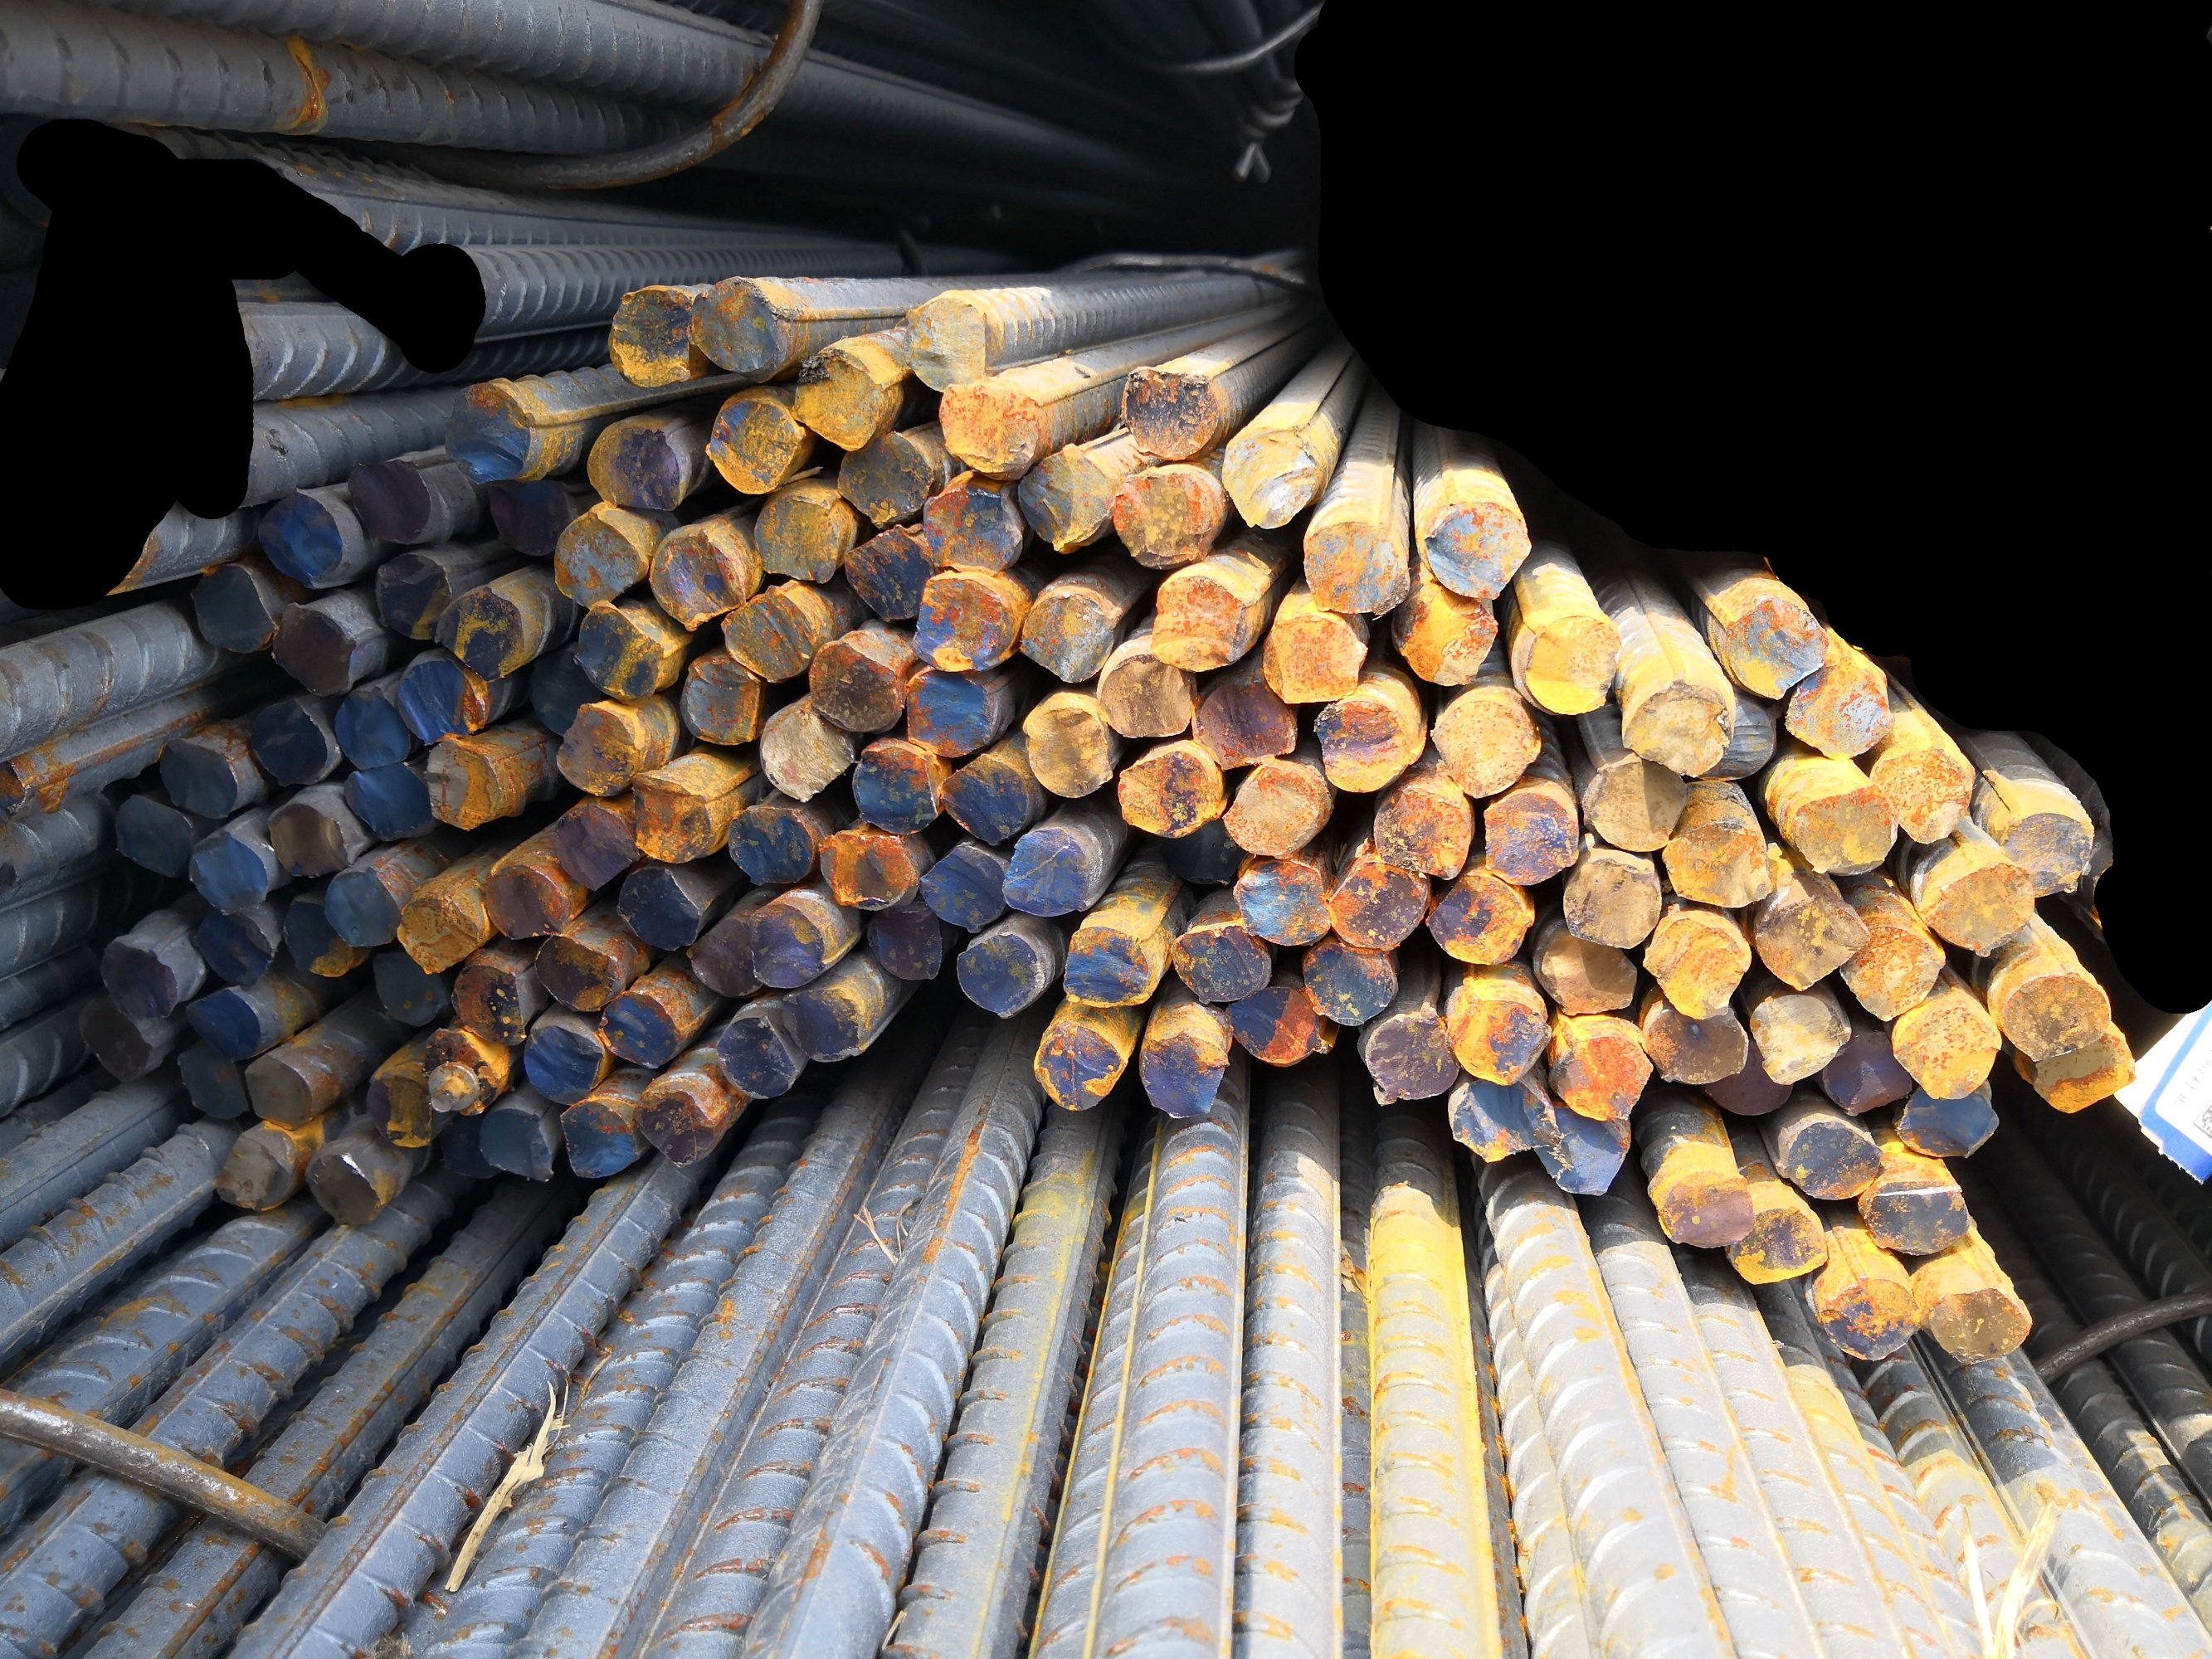rebar: (1783, 636, 1898, 767), (1428, 683, 1548, 803), (1720, 579, 1835, 702), (1142, 563, 1262, 674), (1513, 599, 1623, 720), (1616, 669, 1736, 779), (1440, 1063, 1564, 1169), (1311, 685, 1426, 798), (933, 368, 1044, 484), (1830, 915, 1947, 1026), (1780, 772, 1902, 878), (1257, 592, 1368, 708), (1220, 415, 1327, 535), (1353, 993, 1459, 1114), (1422, 490, 1536, 601), (1644, 906, 1755, 1019), (580, 413, 697, 519), (1211, 972, 1335, 1072), (1300, 511, 1414, 619), (1574, 751, 1689, 857), (753, 688, 854, 809), (1110, 462, 1217, 575), (1888, 995, 2003, 1100), (1180, 671, 1299, 772), (1752, 890, 1872, 990), (1869, 735, 1977, 845), (835, 518, 941, 629), (436, 376, 540, 490), (1422, 864, 1536, 969), (1218, 756, 1335, 857), (1659, 812, 1776, 913), (702, 389, 809, 498), (1391, 584, 1503, 688), (1562, 843, 1666, 955), (1923, 857, 2038, 958), (1546, 1021, 1658, 1124), (913, 477, 1028, 577), (1327, 852, 1433, 958), (1370, 775, 1476, 882), (1020, 575, 1124, 683), (1447, 981, 1551, 1089), (647, 519, 748, 631), (1020, 690, 1121, 802), (831, 432, 943, 533), (1018, 439, 1117, 552), (751, 484, 859, 587), (1815, 1262, 1923, 1364), (1747, 986, 1855, 1089), (1996, 795, 2099, 903), (546, 502, 647, 612), (892, 291, 994, 401), (793, 340, 889, 455), (2001, 967, 2120, 1060), (912, 570, 1014, 674), (1527, 1093, 1632, 1195), (1478, 784, 1583, 887), (800, 633, 906, 734), (683, 270, 784, 376), (1116, 362, 1222, 464), (1117, 742, 1227, 840), (1088, 648, 1199, 744), (1137, 1004, 1227, 1121), (1813, 1018, 1916, 1121), (844, 730, 941, 838), (1926, 1277, 2036, 1373), (1644, 993, 1755, 1087), (1773, 1114, 1884, 1208), (2036, 1019, 2139, 1121), (1232, 850, 1339, 948), (601, 284, 697, 392), (903, 657, 1002, 760), (1856, 1175, 1973, 1262), (251, 484, 345, 592), (1645, 1164, 1757, 1255), (1534, 927, 1640, 1019), (626, 767, 723, 866), (1062, 913, 1157, 1014), (1027, 1016, 1128, 1112), (390, 652, 495, 744), (570, 596, 662, 701), (1719, 1199, 1829, 1286), (338, 444, 434, 544), (431, 584, 532, 678), (546, 795, 640, 896), (816, 823, 917, 917), (1166, 920, 1279, 1004), (941, 744, 1030, 850), (1895, 1070, 2003, 1157), (718, 584, 814, 681), (1302, 934, 1401, 1028), (422, 730, 509, 836), (207, 1119, 303, 1215), (1001, 823, 1096, 918), (511, 1012, 608, 1107), (415, 1028, 514, 1121), (390, 882, 490, 974), (91, 932, 187, 1026), (180, 826, 277, 918), (610, 857, 701, 957), (190, 554, 279, 655), (723, 800, 823, 889), (1698, 688, 1783, 791), (371, 545, 455, 650), (242, 694, 333, 789), (955, 927, 1046, 1023), (554, 699, 641, 798), (920, 835, 1008, 934), (274, 594, 359, 695), (715, 1004, 800, 1105), (103, 788, 195, 880), (551, 1093, 643, 1185), (265, 795, 359, 885), (70, 992, 159, 1087), (338, 763, 439, 847), (155, 732, 248, 823), (777, 976, 868, 1068), (479, 856, 572, 945), (678, 650, 760, 749), (317, 861, 404, 953), (532, 934, 626, 1019), (187, 906, 282, 990), (629, 1079, 716, 1169), (490, 479, 580, 566), (746, 901, 833, 990), (1703, 1033, 1792, 1121), (167, 1032, 251, 1124), (472, 1101, 560, 1188), (598, 986, 685, 1073), (181, 976, 270, 1061), (302, 1141, 387, 1230), (446, 953, 528, 1044), (685, 910, 763, 1002), (868, 894, 947, 986), (359, 1058, 434, 1152), (328, 685, 411, 767), (1161, 812, 1246, 892), (282, 889, 356, 979), (368, 951, 450, 1028), (239, 1053, 319, 1127), (530, 652, 596, 739), (432, 1107, 502, 1187)
